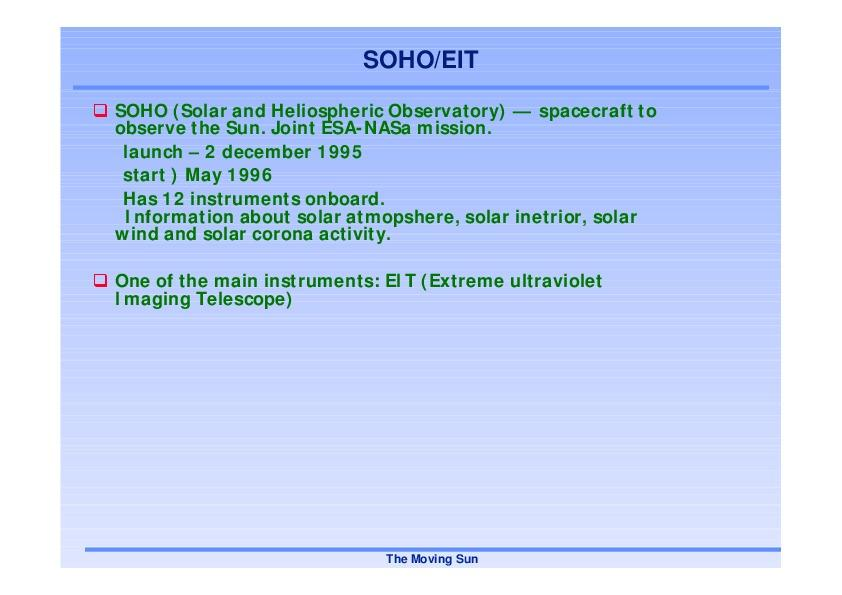paragraph: (81, 93, 712, 340)
title: (352, 39, 491, 80)
